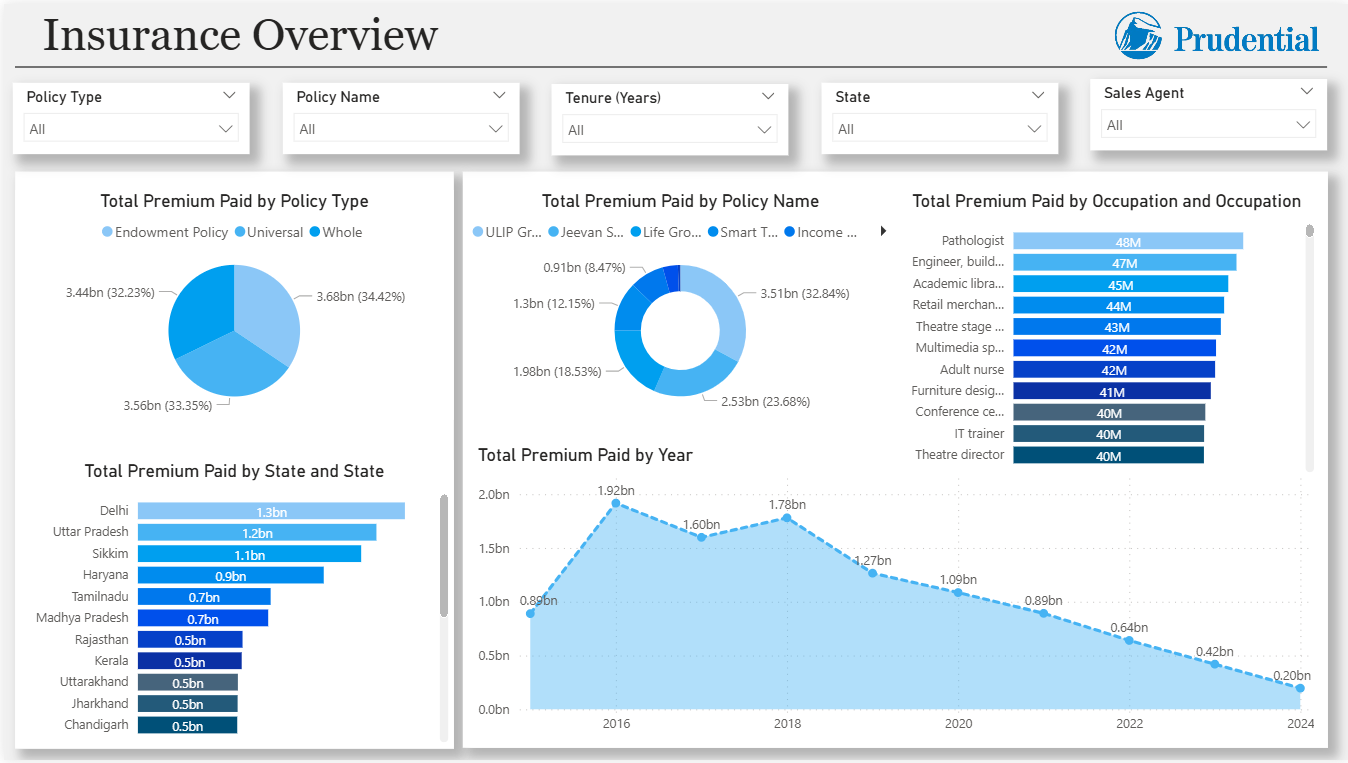

The page's visual inventory and layout, read from the dashboard file:
{"tool":"powerbi","page":{"name":"Insurance Overview","canvas":[1280,720],"ordinal":1},"visuals":[{"type":"shape","box":[10.7,160,417.3,549.3],"z":0,"group":"g1"},{"type":"shape","box":[10.7,33.3,1249.3,53.3],"z":0},{"type":"textbox","box":[21.4,0,462.9,61.4],"z":1000},{"type":"shape","box":[437.4,160,410.7,549.3],"z":1000,"group":"g1"},{"type":"shape","box":[857.4,160,402.7,549.3],"z":2000,"group":"g1"},{"type":"image","box":[1072.9,0,197.1,80],"z":2000},{"type":"group","id":"g1","title":"Group 1","box":[10.7,160,1249.3,549.3],"z":3000},{"type":"slicer","fields":{"Values":["DM Policy_Type.Policy Type"]},"box":[8.8,75.2,225.3,68],"z":4000},{"type":"slicer","fields":{"Values":["DM Policy_Protection_Plan.Policy Name"]},"box":[265.3,75.2,225.3,68],"z":5000},{"type":"slicer","fields":{"Values":["FCT Insurance_Policy_Table.Tenure (Years)"]},"box":[521.7,76.5,225.3,68],"z":6000},{"type":"slicer","fields":{"Values":["DM Customer_Detail_Table.State"]},"box":[778.2,74.7,225.3,68],"z":7000},{"type":"slicer","fields":{"Values":["DM Insurance_Agent_Table.Sales Agent"]},"box":[1034.7,72,225.3,68],"z":8000},{"type":"textbox","box":[21.3,177.3,381.3,37.3],"z":9000},{"type":"textbox","box":[452,177.3,381.3,37.3],"z":10000},{"type":"textbox","box":[868,177.3,381.3,37.3],"z":11000},{"type":"donutChart","fields":{"Category":["DM Policy_Type.Policy Type"],"Y":["Sum(FCT Insurance_Policy_Table.Underwriting expenses)"]},"box":[9.6,214.7,417.3,264.1],"z":12000},{"type":"barChart","fields":{"Category":["DM Policy_Type.Policy Type"],"Y":["Sum(FCT Insurance_Policy_Table.Total Premium Amount)"]},"box":[56,496,356,190.7],"z":13000}]}

Visuals, with their boxes in screenshot pixels (x1, y1, x2, y2), scaled from the page's 1280x720 canvas onto the 1348x763 screenshot:
shape: (x1=11, y1=170, x2=451, y2=752)
shape: (x1=11, y1=35, x2=1327, y2=92)
textbox: (x1=23, y1=0, x2=510, y2=65)
shape: (x1=461, y1=170, x2=893, y2=752)
shape: (x1=903, y1=170, x2=1327, y2=752)
image: (x1=1130, y1=0, x2=1337, y2=85)
"Group 1" group: (x1=11, y1=170, x2=1327, y2=752)
slicer - DM Policy_Type.Policy Type: (x1=9, y1=80, x2=247, y2=152)
slicer - DM Policy_Protection_Plan.Policy Name: (x1=279, y1=80, x2=517, y2=152)
slicer - FCT Insurance_Policy_Table.Tenure (Years): (x1=549, y1=81, x2=787, y2=153)
slicer - DM Customer_Detail_Table.State: (x1=820, y1=79, x2=1057, y2=151)
slicer - DM Insurance_Agent_Table.Sales Agent: (x1=1090, y1=76, x2=1327, y2=148)
textbox: (x1=22, y1=188, x2=424, y2=227)
textbox: (x1=476, y1=188, x2=878, y2=227)
textbox: (x1=914, y1=188, x2=1316, y2=227)
donutChart - DM Policy_Type.Policy Type x Sum(FCT Insurance_Policy_Table.Underwriting expenses): (x1=10, y1=228, x2=450, y2=507)
barChart - DM Policy_Type.Policy Type x Sum(FCT Insurance_Policy_Table.Total Premium Amount): (x1=59, y1=526, x2=434, y2=728)
